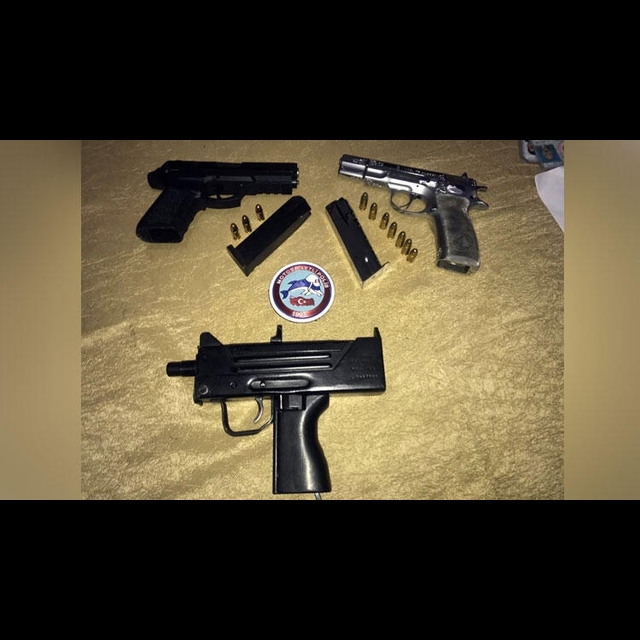SILAH: (324, 152, 495, 292), (132, 154, 309, 267)
